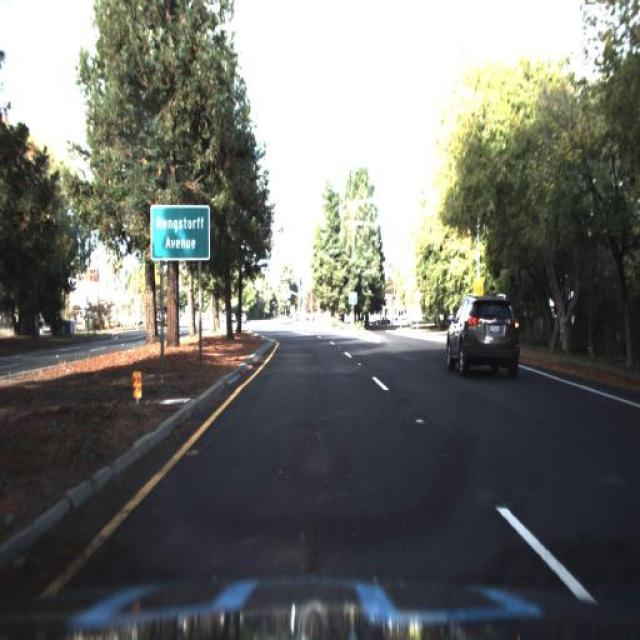car: (442, 282, 524, 378)
